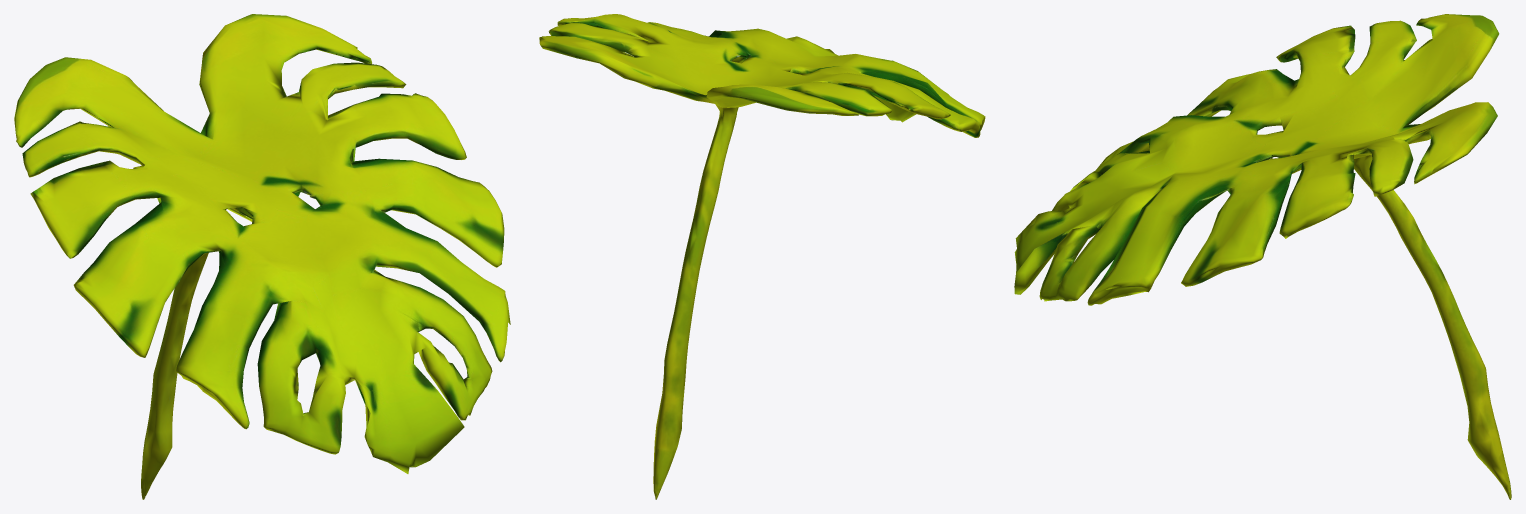
The model's file is mon_neon_lime.glb.
The picture shows the model from 3 angles, left to right: view 1: azimuth 30°, elevation 25°; view 2: azimuth 150°, elevation 25°; view 3: azimuth 270°, elevation 25°; orthographic projection. The views are drawn at different scales.
Bounding box in the file's own units: 1.76 × 1.92 × 2.
Materials: 1 (1 with a texture image).
